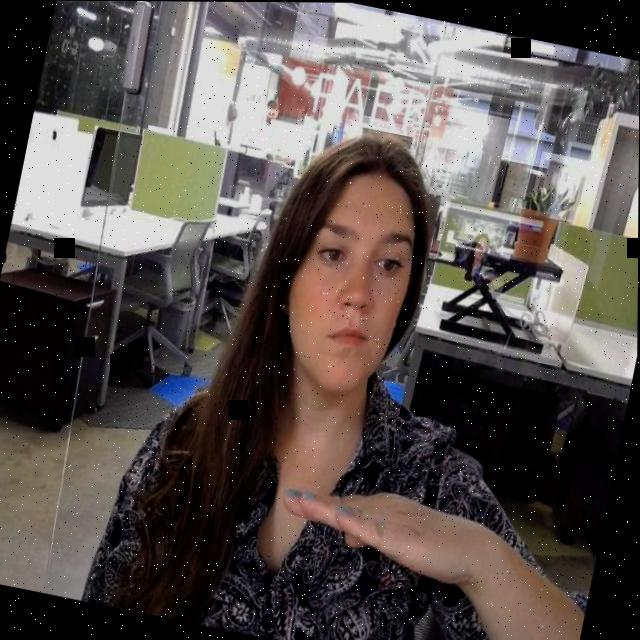Paper: (267, 455, 494, 611)
